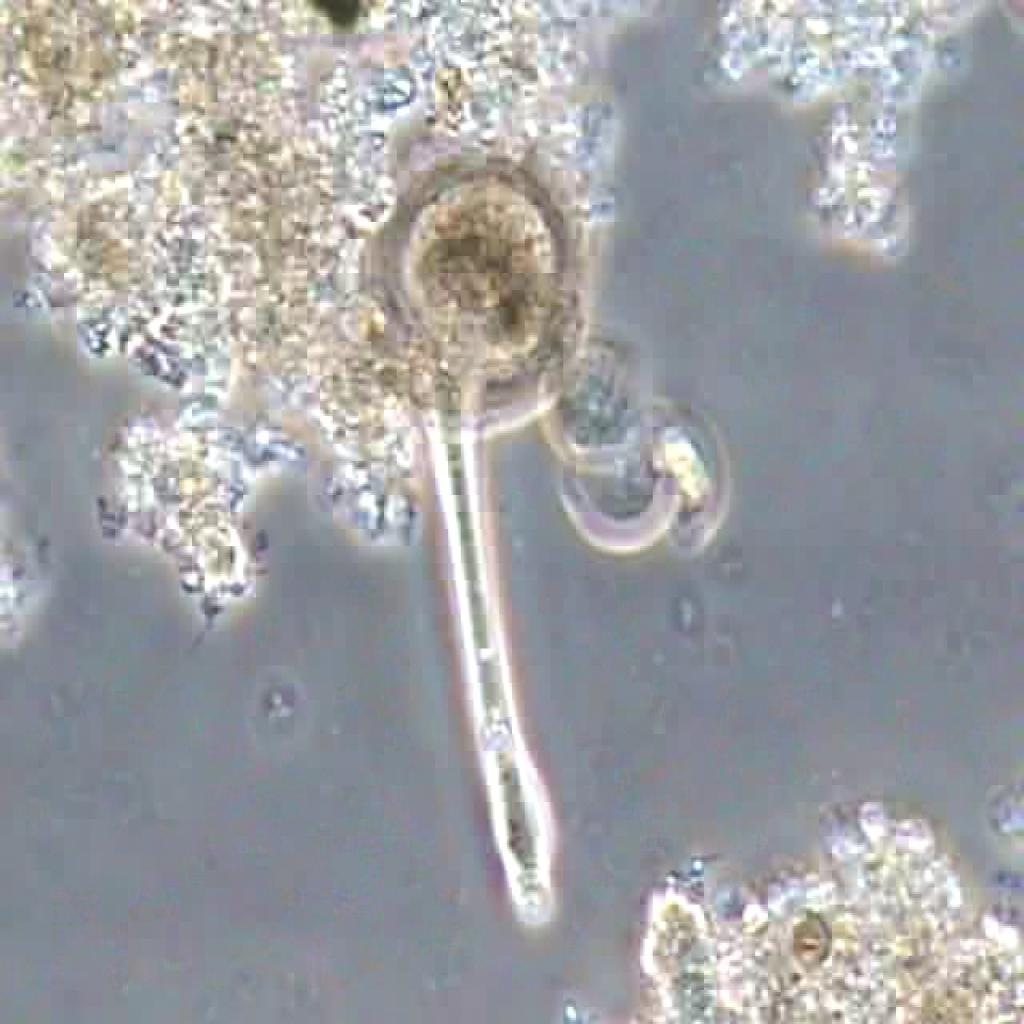Arcella: (343, 125, 607, 940)
